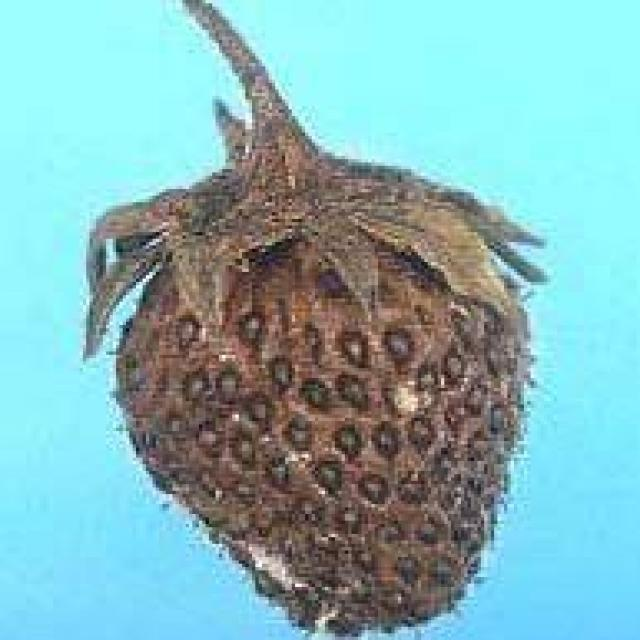Podredumbre de cuero: (86, 110, 524, 628)
